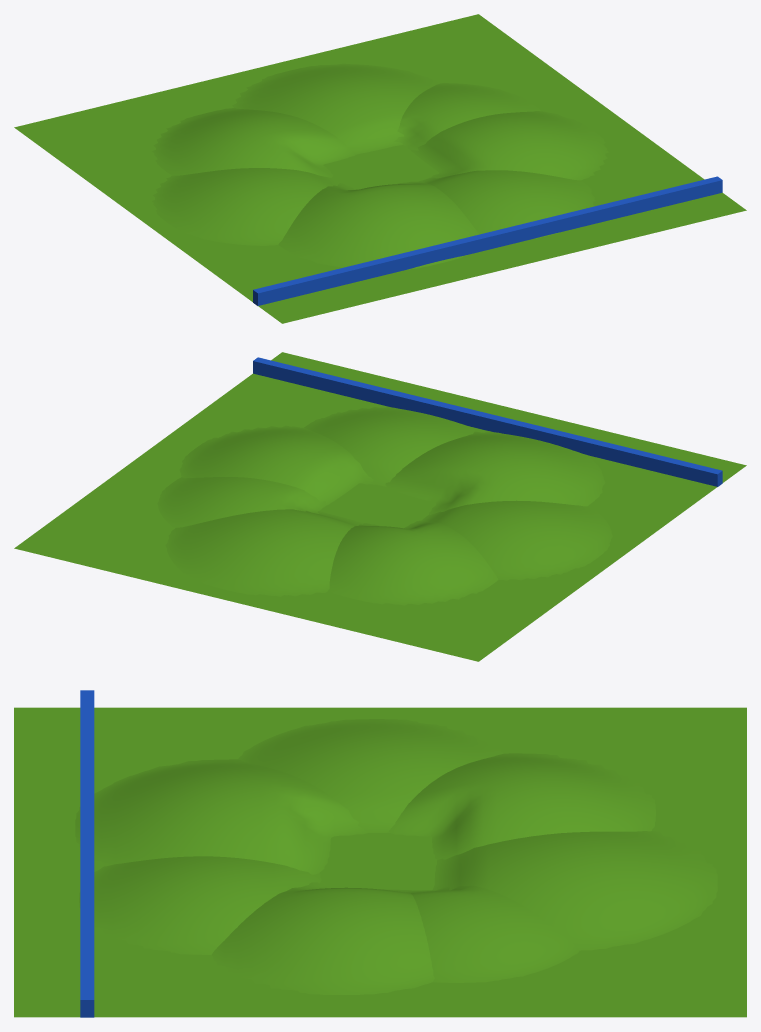
File: masaustu_cevre.glb
3 views of the same model, one above another, from view 1: azimuth 30°, elevation 25°; view 2: azimuth 150°, elevation 25°; view 3: azimuth 270°, elevation 25° (orthographic). The views are drawn at different scales.
Parts seen in each view (by area): view 1: K_zemin, K_tepe2, K_tepe5, K_tepe3, K_tepe4, K_tepe0, K_gorevC, K_tepe1, K_tepe6; view 2: K_zemin, K_tepe5, K_tepe2, K_tepe4, K_tepe3, K_tepe0, K_gorevC, K_tepe1, K_tepe6; view 3: K_zemin, K_tepe2, K_tepe5, K_tepe0, K_tepe4, K_tepe3, K_tepe1, K_tepe6, K_gorevC.
Boxes of the visible parts, bbox=[...] form: K_zemin: bbox=[14, 14, 746, 323]; K_tepe2: bbox=[278, 181, 479, 269]; K_tepe5: bbox=[232, 63, 439, 154]; K_tepe3: bbox=[152, 168, 340, 245]; K_tepe4: bbox=[152, 107, 355, 177]; K_tepe0: bbox=[408, 111, 608, 180]; K_gorevC: bbox=[253, 176, 722, 305]; K_tepe1: bbox=[420, 170, 595, 238]; K_tepe6: bbox=[394, 83, 540, 150]; K_zemin: bbox=[14, 352, 746, 661]; K_tepe5: bbox=[165, 509, 363, 596]; K_tepe2: bbox=[385, 431, 605, 514]; K_tepe4: bbox=[328, 520, 498, 605]; K_tepe3: bbox=[422, 500, 612, 580]; K_tepe0: bbox=[179, 425, 374, 507]; K_gorevC: bbox=[253, 357, 722, 486]; K_tepe1: bbox=[304, 406, 475, 486]; K_tepe6: bbox=[157, 477, 325, 527]; K_zemin: bbox=[14, 707, 746, 1017]; K_tepe2: bbox=[75, 759, 368, 874]; K_tepe5: bbox=[432, 831, 717, 950]; K_tepe0: bbox=[211, 880, 434, 994]; K_tepe4: bbox=[388, 753, 655, 859]; K_tepe3: bbox=[238, 719, 504, 832]; K_tepe1: bbox=[79, 856, 321, 954]; K_tepe6: bbox=[404, 885, 578, 982]; K_gorevC: bbox=[80, 690, 94, 1017].
Size of the model in its own units: 640 by 31.9 by 640.
